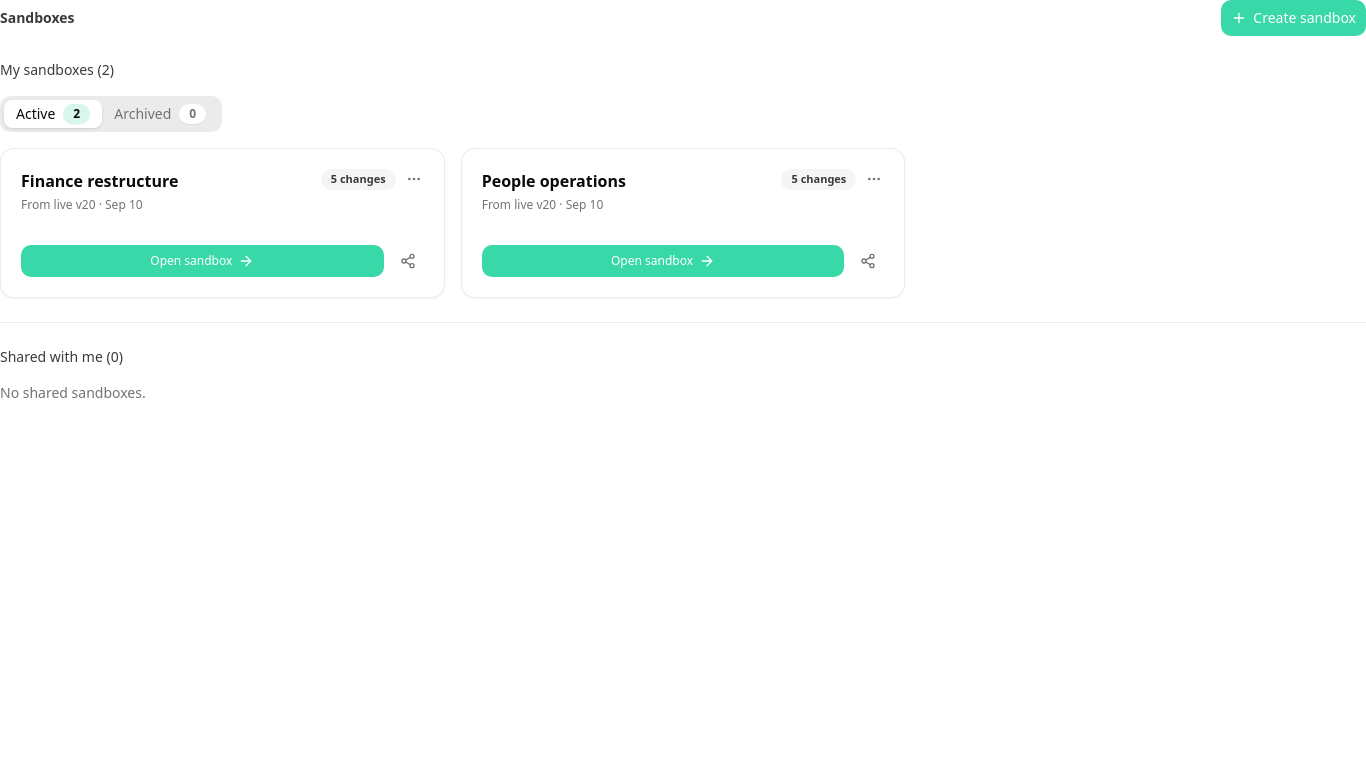
Test: sandbox sharing › ignores details returned for a previously closed sandbox dialog
The image size is (1366, 768).
Step 1. Click the button named "Share Finance restructure" → (408, 261), box [392,245,424,277]
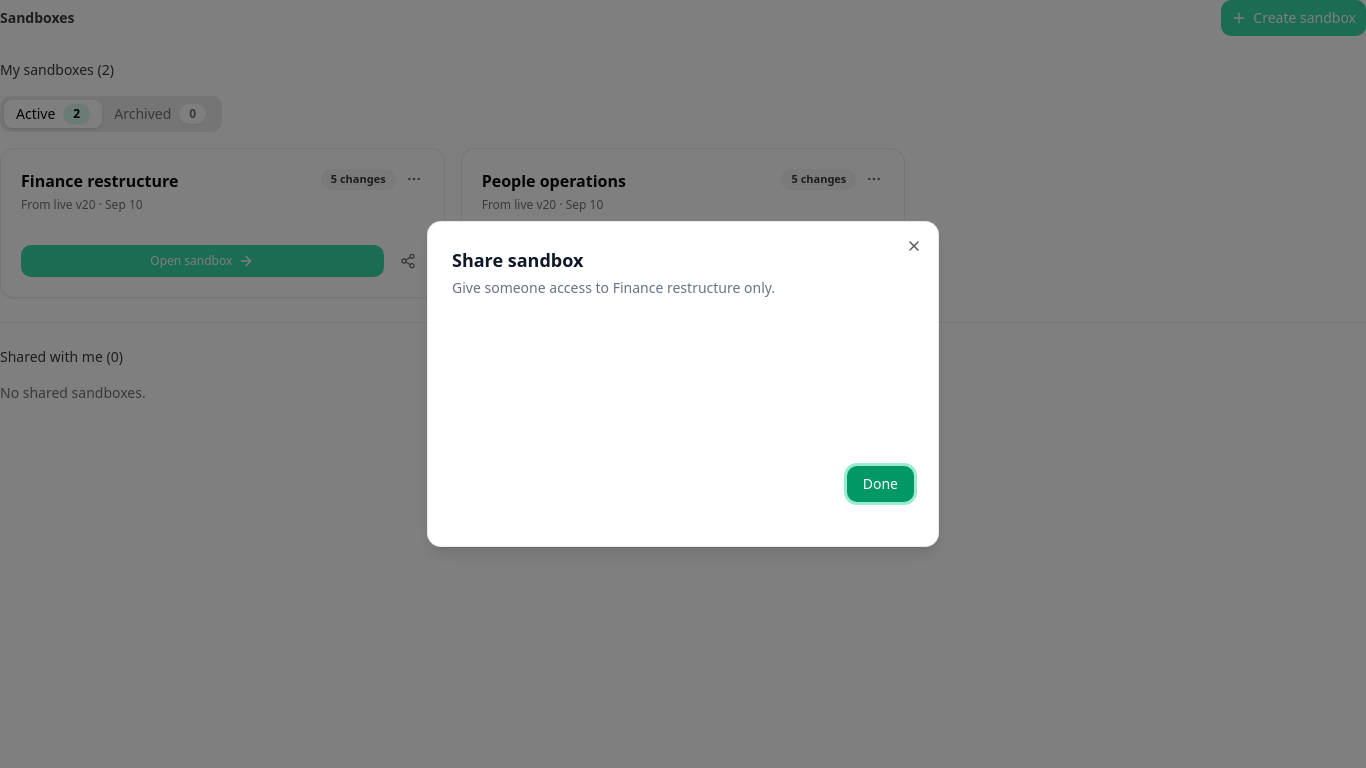
Step 2. Click the button "Done" → (880, 484), box [847,466,914,502]
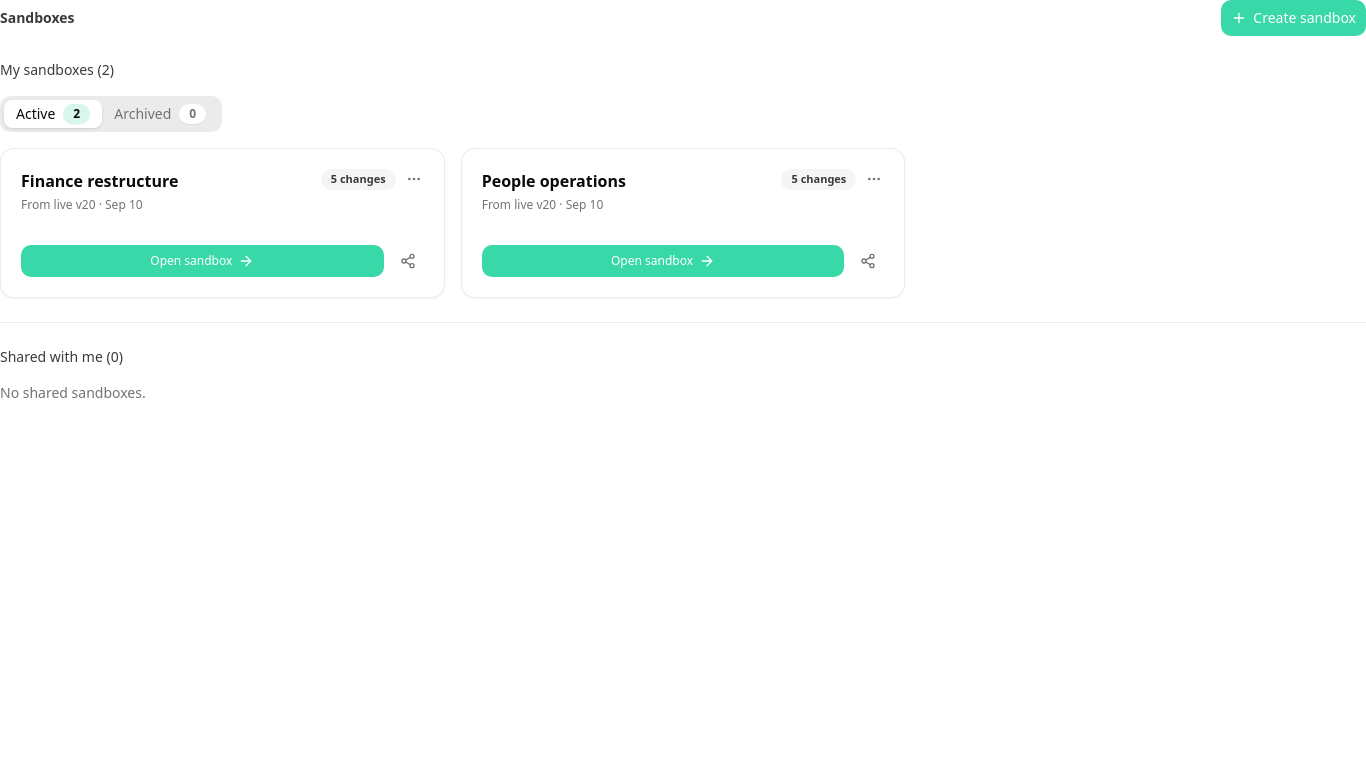
Step 3. Click the button named "Share People operations" → (868, 261), box [852,245,884,277]
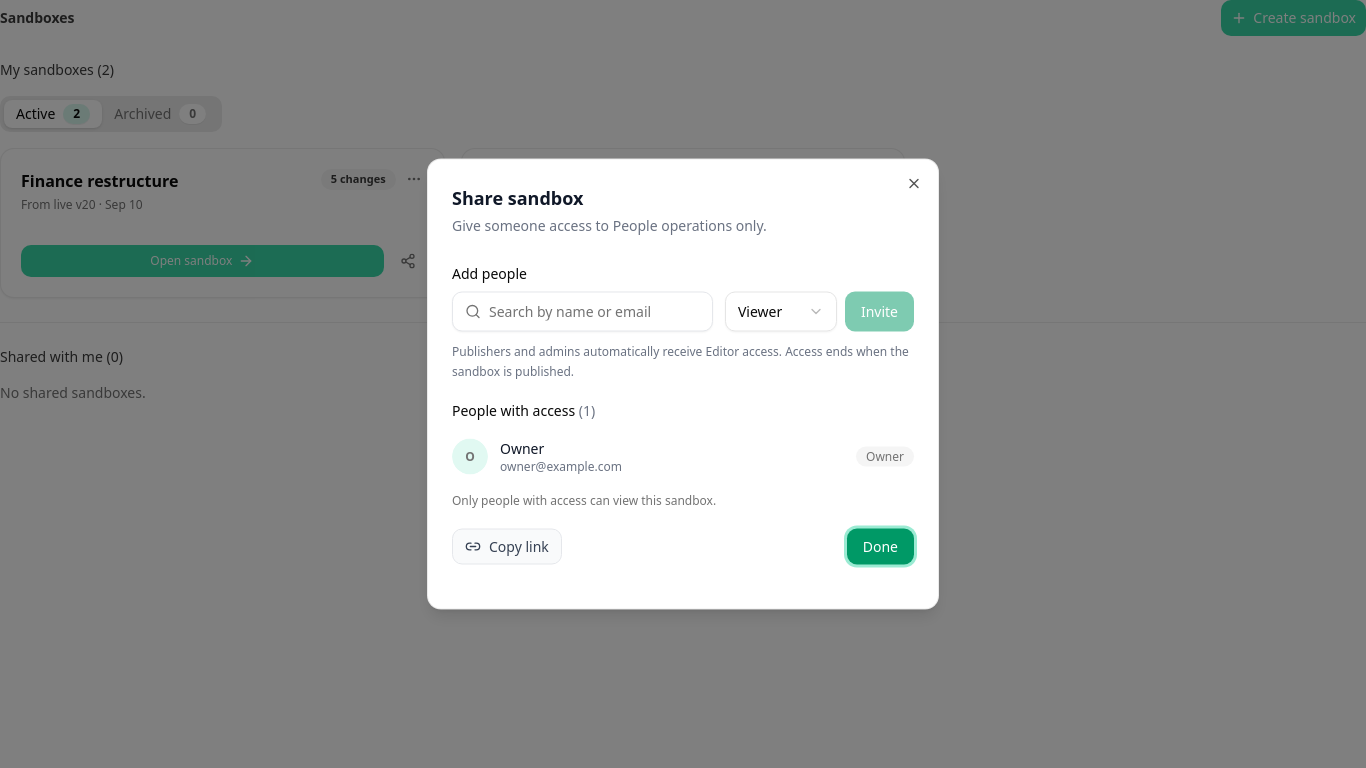
Step 4. Type "current" into the dropdown labelled "Add people" → (592, 312), box [481,302,704,322]
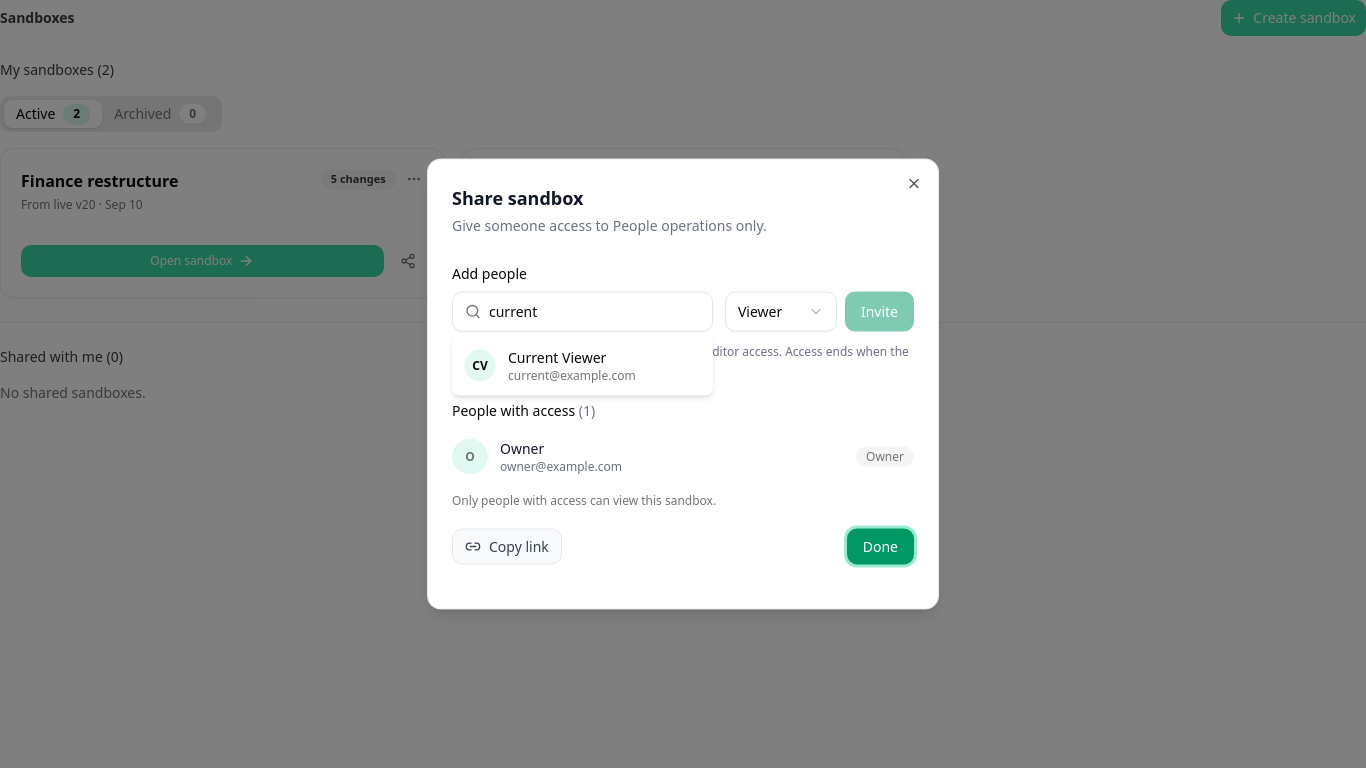
Expected: the button "CV Current Viewer current@example.com" is shown, [456,340,709,392]
